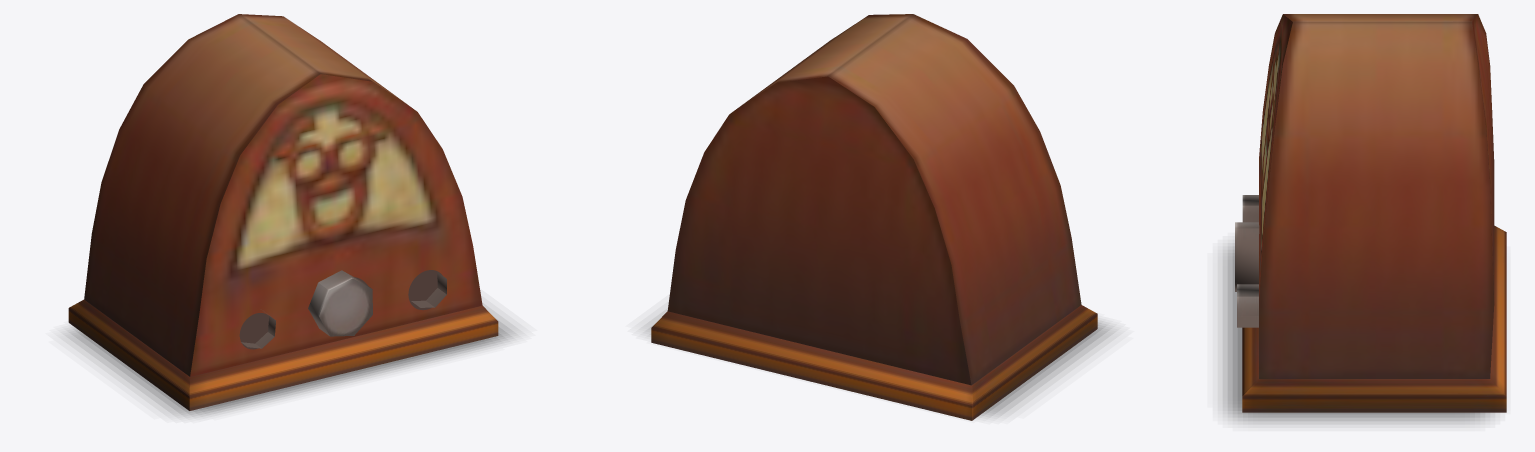
File: radio_c.glb
3 renders of one model, left to right at view 1: azimuth 30°, elevation 25°; view 2: azimuth 150°, elevation 25°; view 3: azimuth 270°, elevation 25°, orthographic. The views are drawn at different scales.
Parts seen in each view (by area): view 1: Radio_Main, pPlane1, Radio_Knob_a, knob3_shadow, knob1_shadow; view 2: Radio_Main, pPlane1; view 3: Radio_Main, pPlane1, Radio_Knob_a, Radio_Knob_a2, Radio_Knob_a1.
Boxes of the visible parts, left/top/right/bottom form: Radio_Main: left=68, top=14, right=498, bottom=410; pPlane1: left=64, top=303, right=517, bottom=417; Radio_Knob_a: left=308, top=270, right=372, bottom=336; knob3_shadow: left=408, top=270, right=442, bottom=310; knob1_shadow: left=239, top=313, right=269, bottom=349; Radio_Main: left=651, top=14, right=1097, bottom=420; pPlane1: left=645, top=308, right=1115, bottom=417; Radio_Main: left=1242, top=14, right=1506, bottom=412; pPlane1: left=1222, top=243, right=1494, bottom=423; Radio_Knob_a: left=1235, top=222, right=1259, bottom=291; Radio_Knob_a2: left=1237, top=284, right=1258, bottom=327; Radio_Knob_a1: left=1242, top=195, right=1258, bottom=222.
Size of the model in its own units: 0.1485 by 0.0992 by 0.0942.
6 materials, 6 textured.
